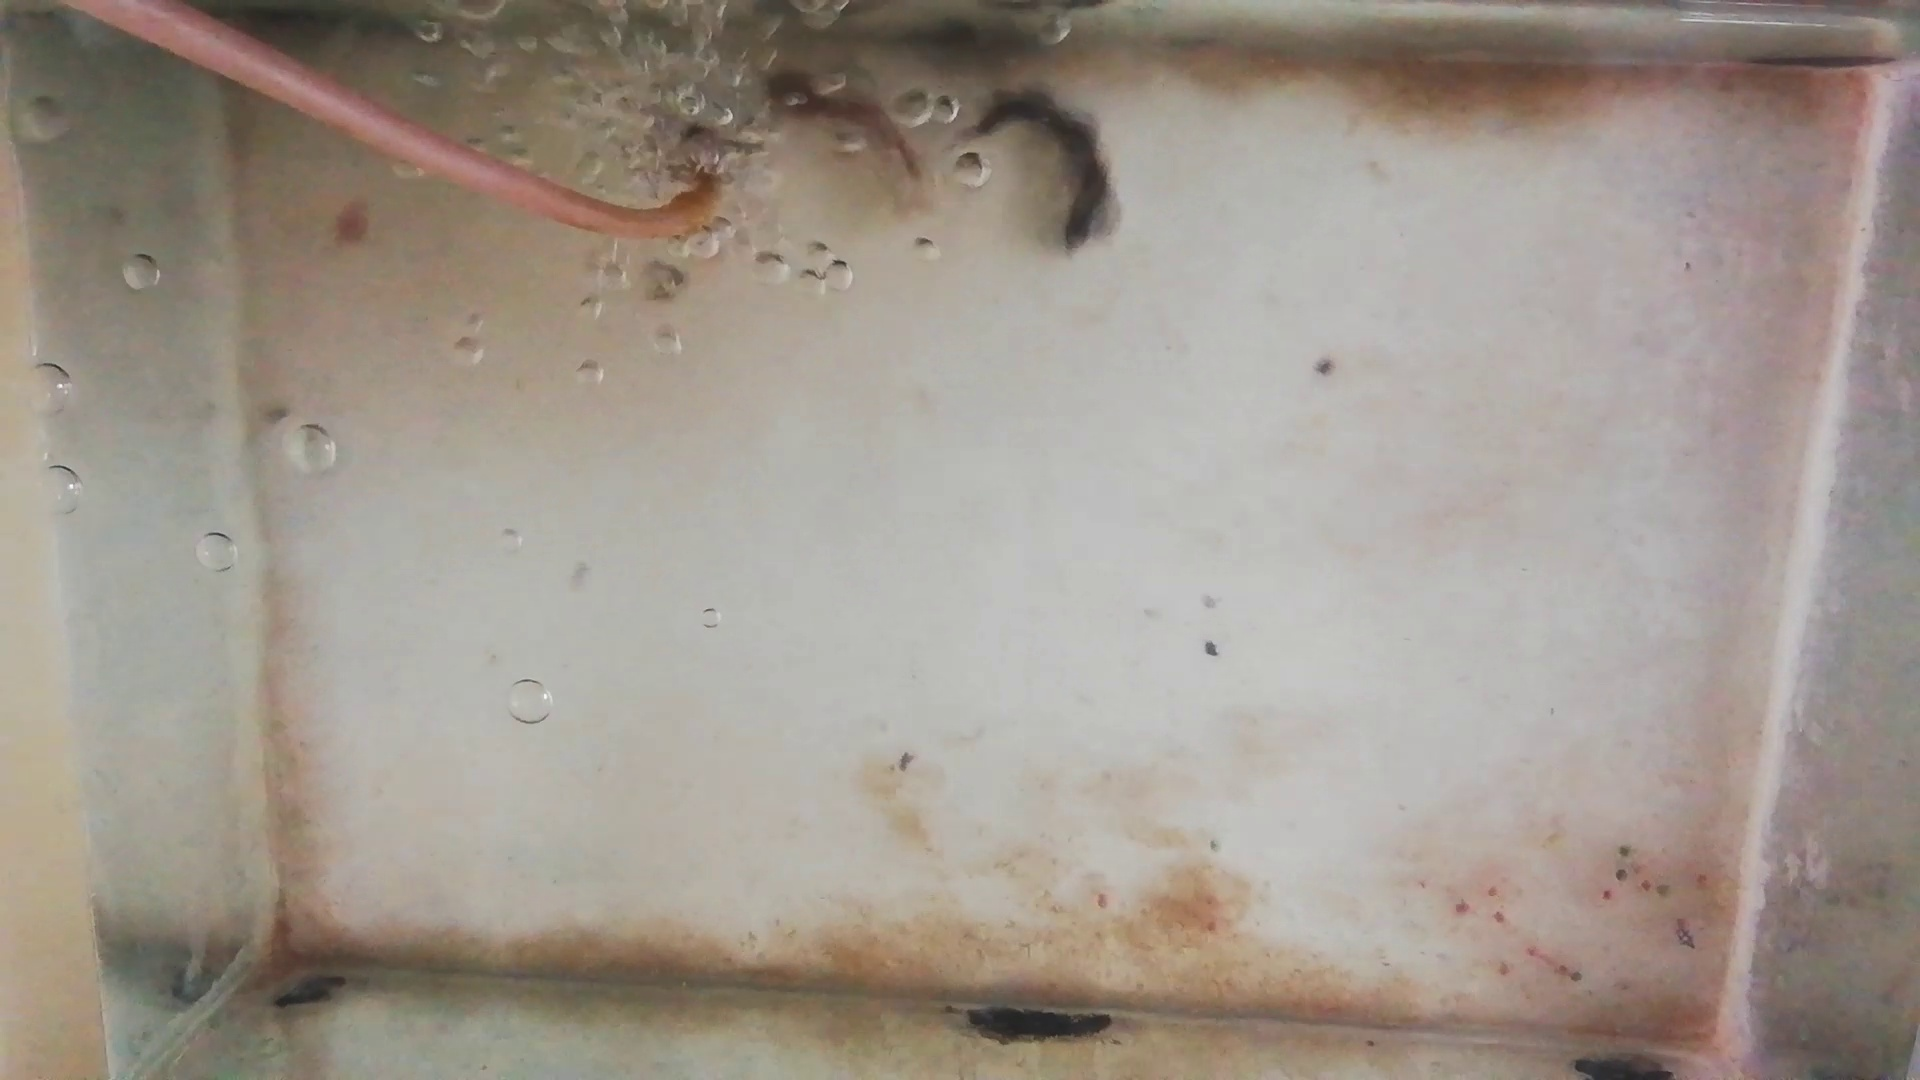fish: (963, 88, 1117, 255), (756, 66, 926, 175)
